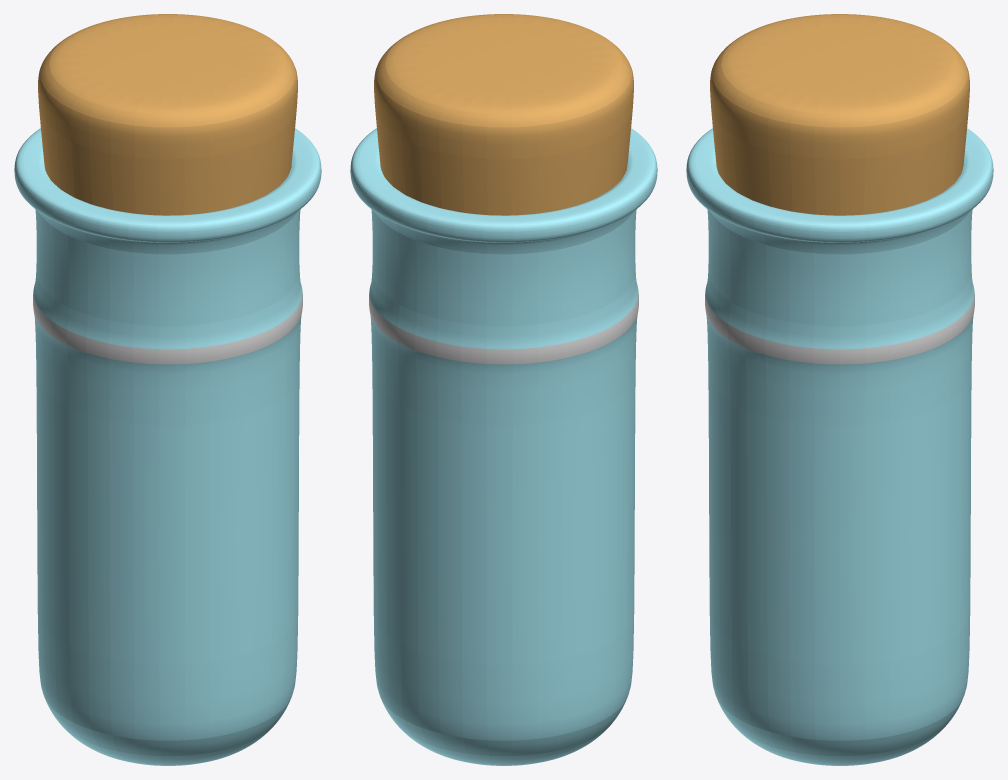
File: cıva 1.fbx
3 renders of one model, left to right at view 1: azimuth 30°, elevation 25°; view 2: azimuth 150°, elevation 25°; view 3: azimuth 270°, elevation 25°, orthographic.
Visible parts, largest first — view 1: Cylinder.002; view 2: Cylinder.002; view 3: Cylinder.002.
Boxes of the visible parts, <box> form: Cylinder.002: <box>14,14,321,765</box>; Cylinder.002: <box>350,14,657,765</box>; Cylinder.002: <box>686,14,993,765</box>.
Size of the model in its own units: 6.84 by 16.69 by 6.84.
